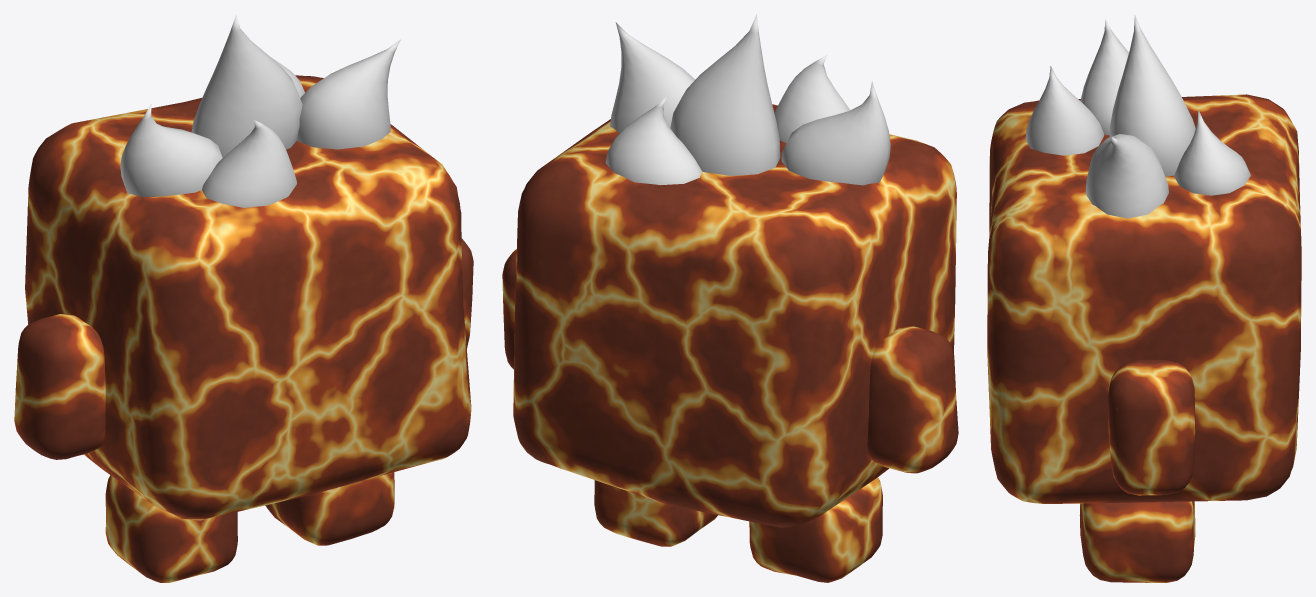
File: Cindermite.fbx
3 renders of one model, left to right at view 1: azimuth 30°, elevation 25°; view 2: azimuth 150°, elevation 25°; view 3: azimuth 270°, elevation 25°, orthographic. The views are drawn at different scales.
Visible parts, largest first — view 1: Body.001, Arm, Leg, Flame, Flame.002, Flame.001, Leg.001, Flame.003, Arm.001; view 2: Body.001, Arm, Flame, Leg, Flame.001, Flame.004, Flame.002, Leg.001, Flame.003, Arm.001; view 3: Body.001, Arm.001, Leg.001, Flame, Flame.002, Flame.003, Flame.004, Flame.001.
Boxes of the visible parts, bbox=[...] form: Body.001: bbox=[25, 75, 471, 520]; Arm: bbox=[14, 314, 105, 459]; Leg: bbox=[105, 475, 237, 582]; Flame: bbox=[191, 14, 302, 157]; Flame.002: bbox=[297, 39, 400, 149]; Flame.001: bbox=[120, 104, 222, 197]; Leg.001: bbox=[265, 472, 394, 545]; Flame.003: bbox=[202, 119, 296, 207]; Arm.001: bbox=[461, 238, 473, 348]; Body.001: bbox=[513, 104, 956, 527]; Arm: bbox=[867, 326, 958, 473]; Flame: bbox=[670, 14, 780, 175]; Leg: bbox=[749, 477, 882, 582]; Flame.001: bbox=[781, 81, 890, 185]; Flame.004: bbox=[605, 96, 701, 185]; Flame.002: bbox=[610, 22, 695, 132]; Leg.001: bbox=[594, 480, 717, 546]; Flame.003: bbox=[774, 55, 849, 142]; Arm.001: bbox=[502, 249, 516, 369]; Body.001: bbox=[987, 94, 1301, 503]; Arm.001: bbox=[1108, 359, 1195, 495]; Leg.001: bbox=[1079, 501, 1195, 582]; Flame: bbox=[1109, 14, 1195, 176]; Flame.002: bbox=[1085, 134, 1168, 218]; Flame.003: bbox=[1025, 66, 1104, 155]; Flame.004: bbox=[1174, 109, 1250, 195]; Flame.001: bbox=[1080, 19, 1128, 135].
Size of the model in its own units: 3.43 by 4.04 by 2.24.
5 materials, 5 textured.
